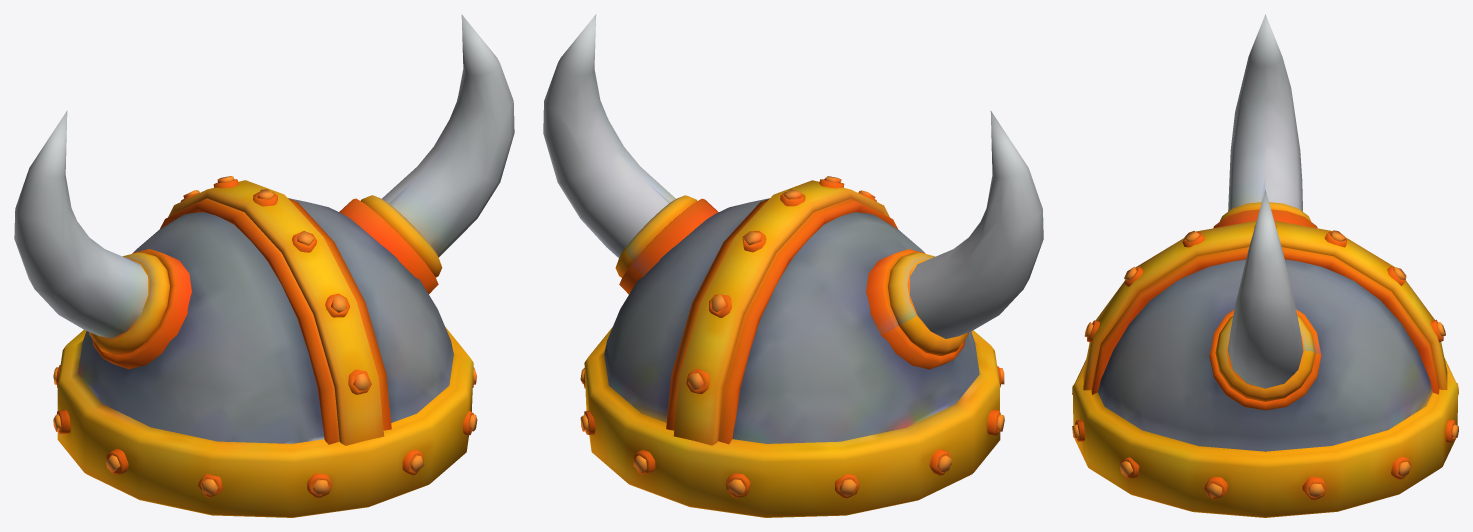
Rendered from Viking_Hat.glb.
The picture shows the model from 3 angles, left to right: view 1: azimuth 30°, elevation 25°; view 2: azimuth 150°, elevation 25°; view 3: azimuth 270°, elevation 25°; orthographic projection. The views are drawn at different scales.
Visible parts, largest first — view 1: Viking_Hat; view 2: Viking_Hat; view 3: Viking_Hat.
Part boxes in pixels (x1,y1,x2,y2): Viking_Hat: [14, 14, 514, 517]; Viking_Hat: [543, 14, 1043, 517]; Viking_Hat: [1072, 14, 1458, 517].
Size of the model in its own units: 0.6715 by 0.4829 by 0.502.
1 material, 1 textured.
